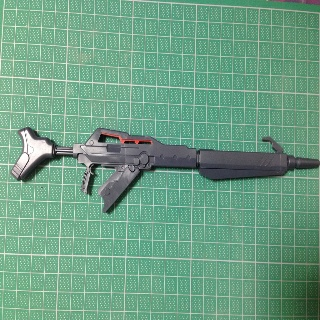rifle: (11, 123, 319, 216)
